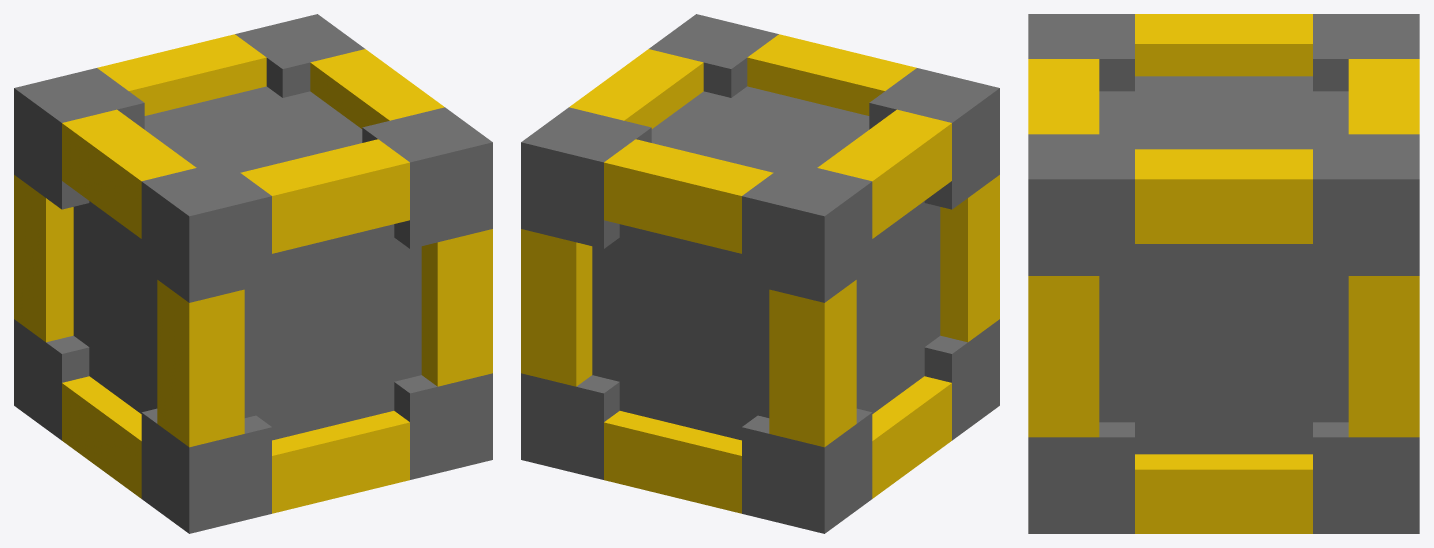
The model's file is itembox.obj.
3 views of the same model, side by side, from view 1: azimuth 30°, elevation 25°; view 2: azimuth 150°, elevation 25°; view 3: azimuth 270°, elevation 25° (orthographic). The views are drawn at different scales.
Bounding box in the file's own units: 11 × 11 × 11.
1 material, 1 textured.
